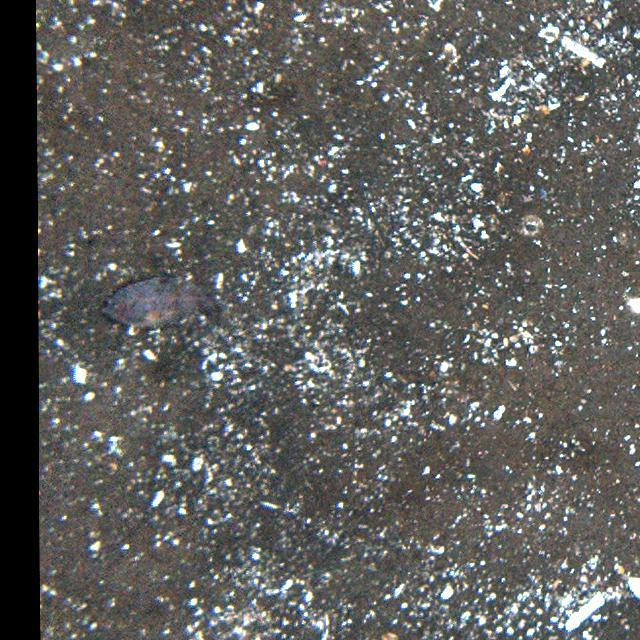flatfish: (105, 273, 221, 333)
